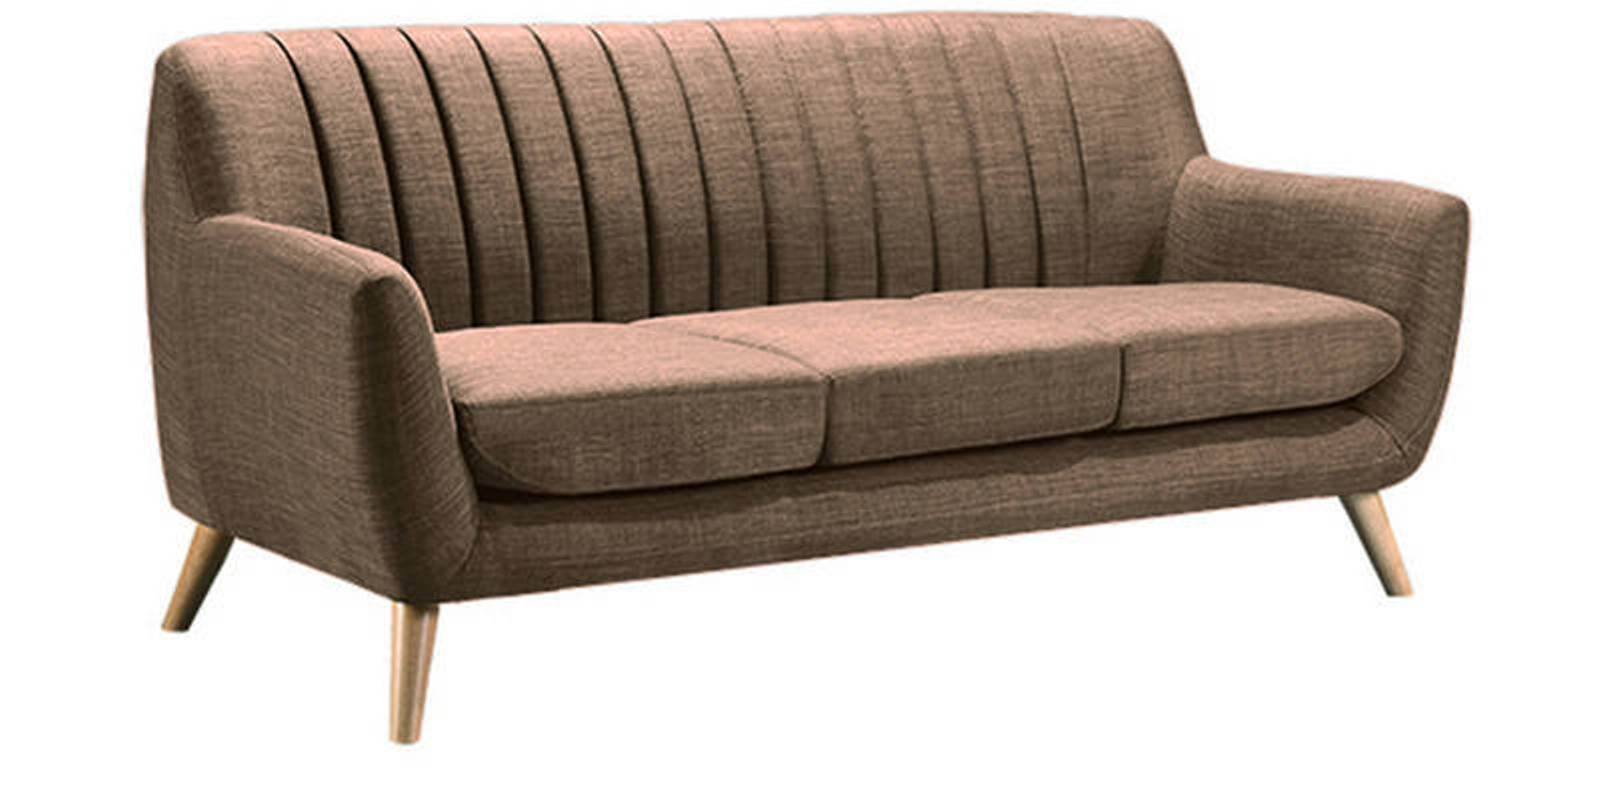Managua Three Seater Sofa in Coyote Colour by CasaCraft: (141, 11, 1470, 747)
